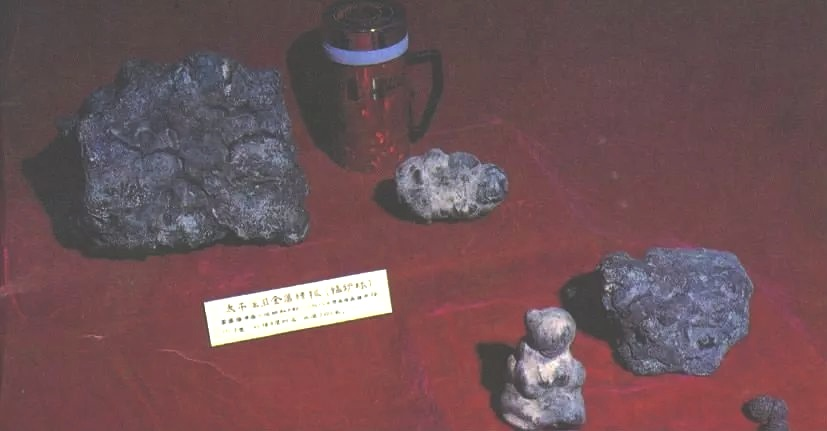halobolite: (73, 54, 317, 253), (596, 231, 755, 379), (500, 309, 594, 430), (395, 150, 510, 225), (737, 391, 794, 429)
